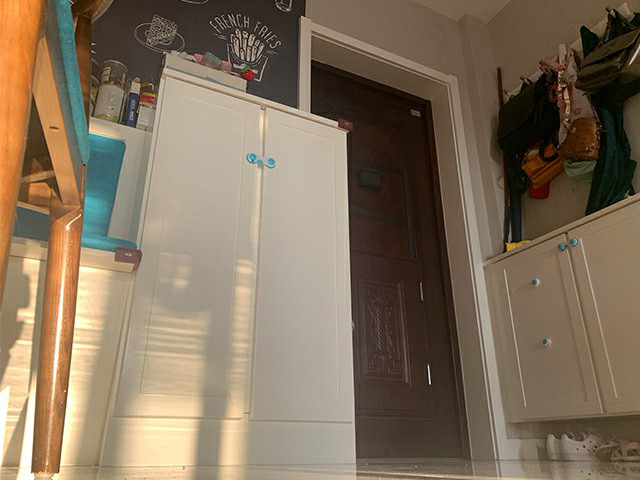cabinet: (94, 68, 358, 466)
